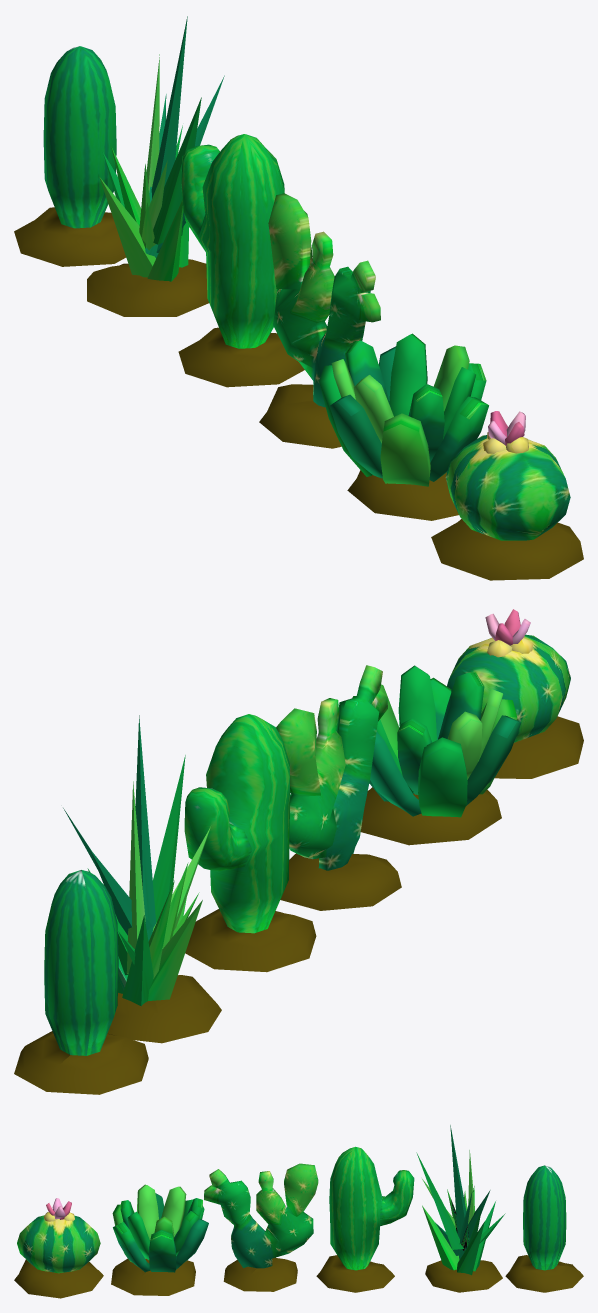
Rendered from Todos_los_captus.glb.
3 renders of one model, top to bottom at view 1: azimuth 30°, elevation 25°; view 2: azimuth 150°, elevation 25°; view 3: azimuth 270°, elevation 25°, orthographic. The views are drawn at different scales.
Visible parts, largest first — view 1: captus 4, captus_con_brazo, captus5, captus3, pinches, captus; view 2: captus_con_brazo, captus 4, captus3, captus, pinches, captus5; view 3: captus3, captus_con_brazo, captus 4, captus5, pinches, captus.
Part boxes in pixels (bbox=[...]): captus 4: bbox=[319, 333, 488, 520]; captus_con_brazo: bbox=[178, 134, 304, 387]; captus5: bbox=[431, 411, 583, 580]; captus3: bbox=[259, 193, 380, 448]; pinches: bbox=[87, 16, 224, 316]; captus: bbox=[14, 46, 126, 266]; captus_con_brazo: bbox=[184, 714, 316, 972]; captus 4: bbox=[352, 665, 521, 845]; captus3: bbox=[276, 665, 401, 910]; captus: bbox=[14, 870, 148, 1094]; pinches: bbox=[63, 715, 221, 1043]; captus5: bbox=[447, 609, 583, 778]; captus3: bbox=[204, 1163, 318, 1291]; captus_con_brazo: bbox=[316, 1146, 414, 1292]; captus 4: bbox=[111, 1184, 208, 1295]; captus5: bbox=[14, 1198, 103, 1298]; pinches: bbox=[416, 1125, 505, 1292]; captus: bbox=[505, 1165, 583, 1292].
Size of what is drawn, in the model's own units: 1.6 by 2.62 by 8.26.
Materials: 2 (1 with a texture image).
